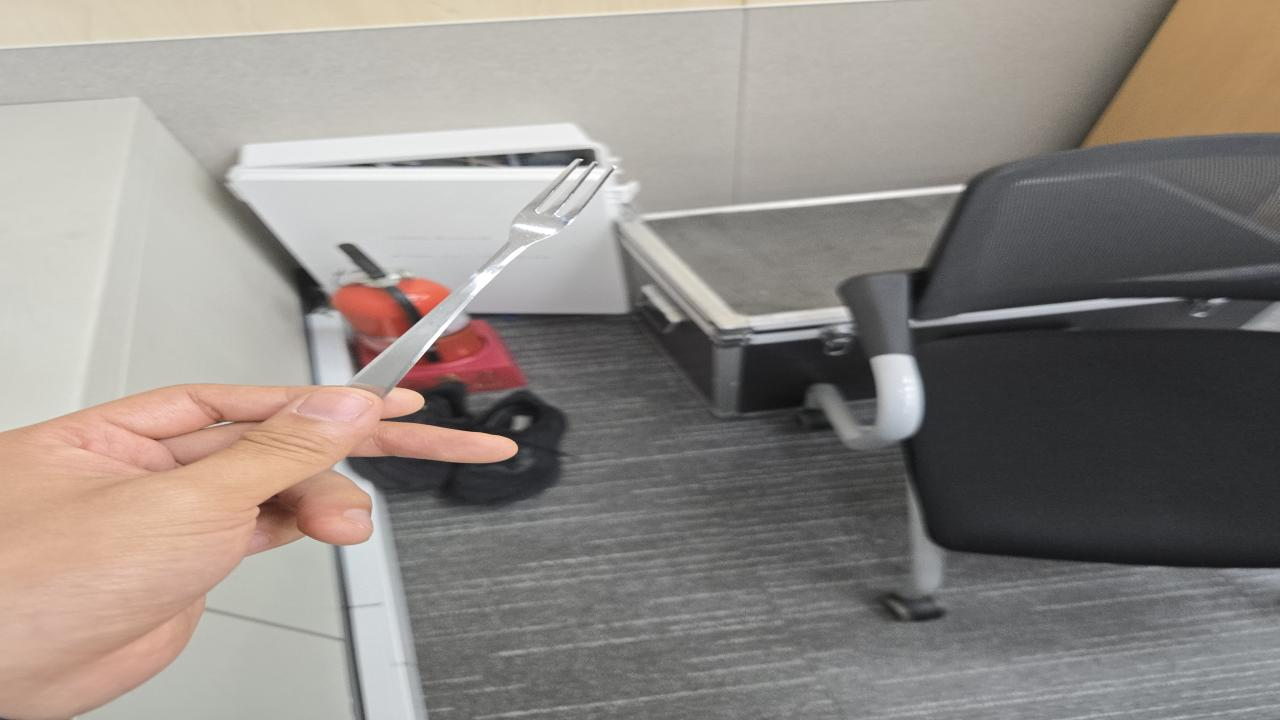fork: (357, 158, 624, 391)
